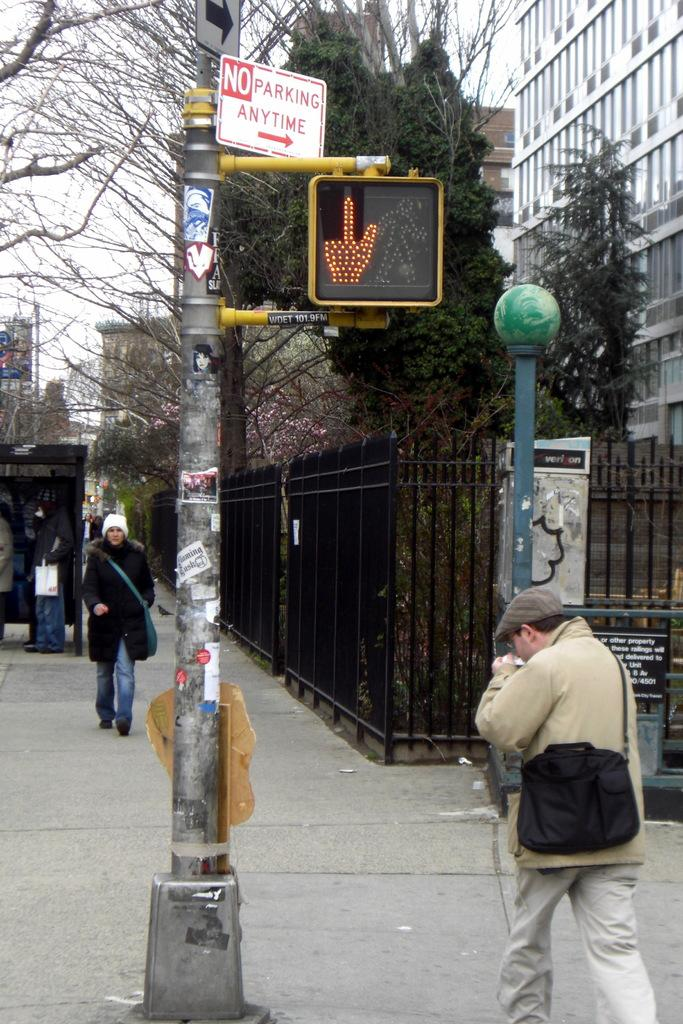Luggage-and-bags: (511, 646, 639, 861), (90, 548, 160, 664), (36, 559, 57, 595)
